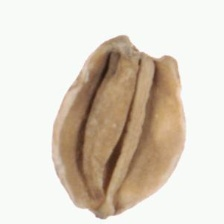L1: (118, 32, 177, 69), (82, 194, 124, 219)
L2: (52, 35, 186, 218)
